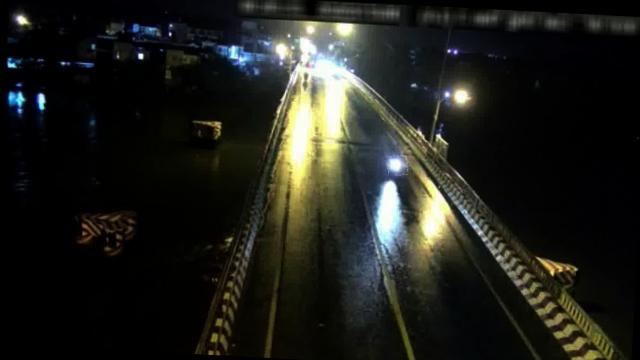Bike: (387, 154, 408, 176)
